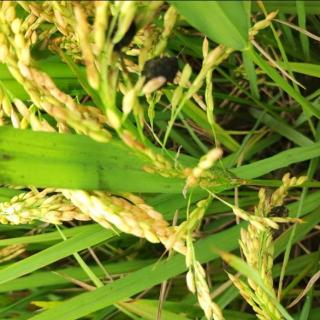Gosong-Palsu: (140, 54, 180, 88), (103, 14, 137, 50), (266, 206, 292, 235)
